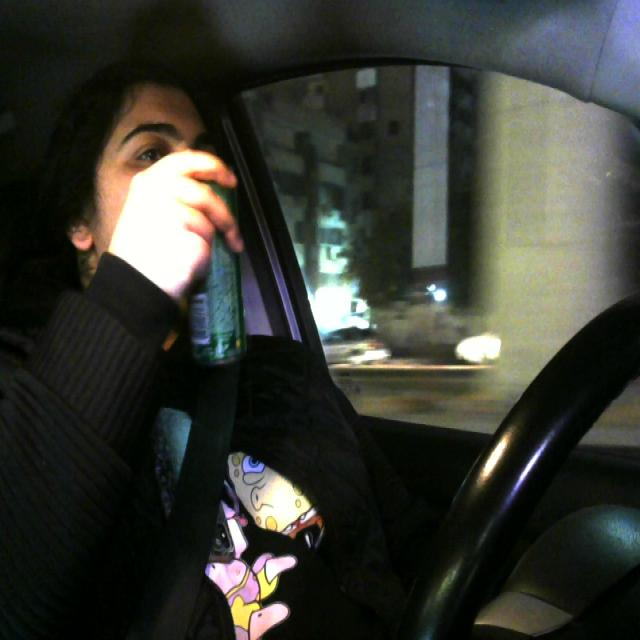drinking: (178, 167, 248, 364)
